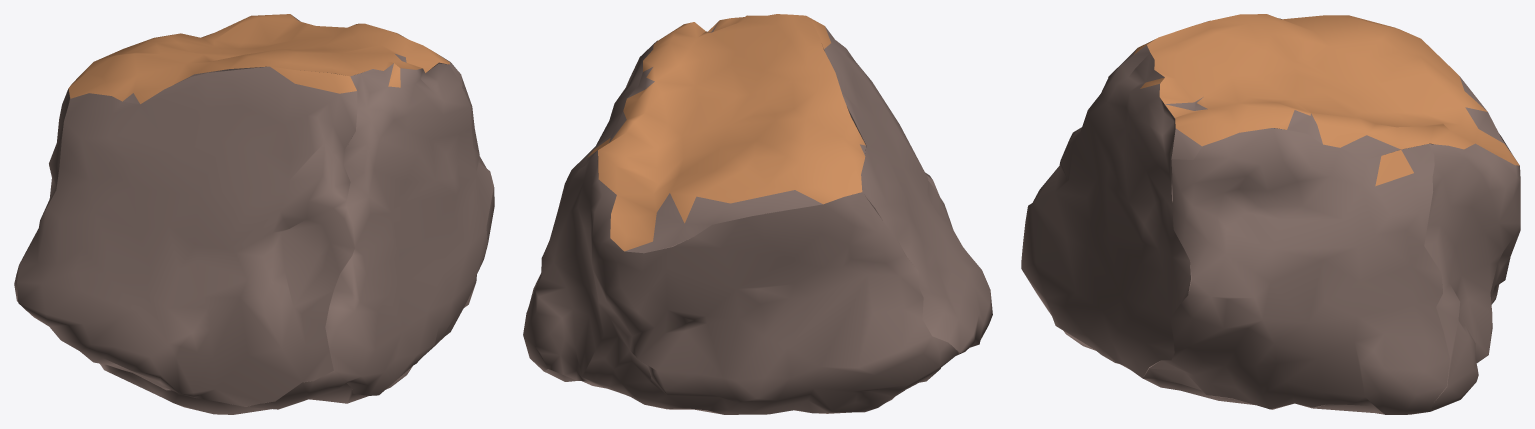
File: rock_boulder_b.glb
3 views of the same model, side by side, from view 1: azimuth 30°, elevation 25°; view 2: azimuth 150°, elevation 25°; view 3: azimuth 270°, elevation 25° (orthographic). The views are drawn at different scales.
Parts seen in each view (by area): view 1: rock_boulder_b-convcol; view 2: rock_boulder_b-convcol; view 3: rock_boulder_b-convcol.
Part boxes in pixels (left/top/right/bottom): rock_boulder_b-convcol: left=14, top=14, right=494, bottom=414; rock_boulder_b-convcol: left=523, top=14, right=992, bottom=414; rock_boulder_b-convcol: left=1021, top=14, right=1520, bottom=414.
Bounding box in the file's own units: 0.9846 × 0.6847 × 0.9991.
